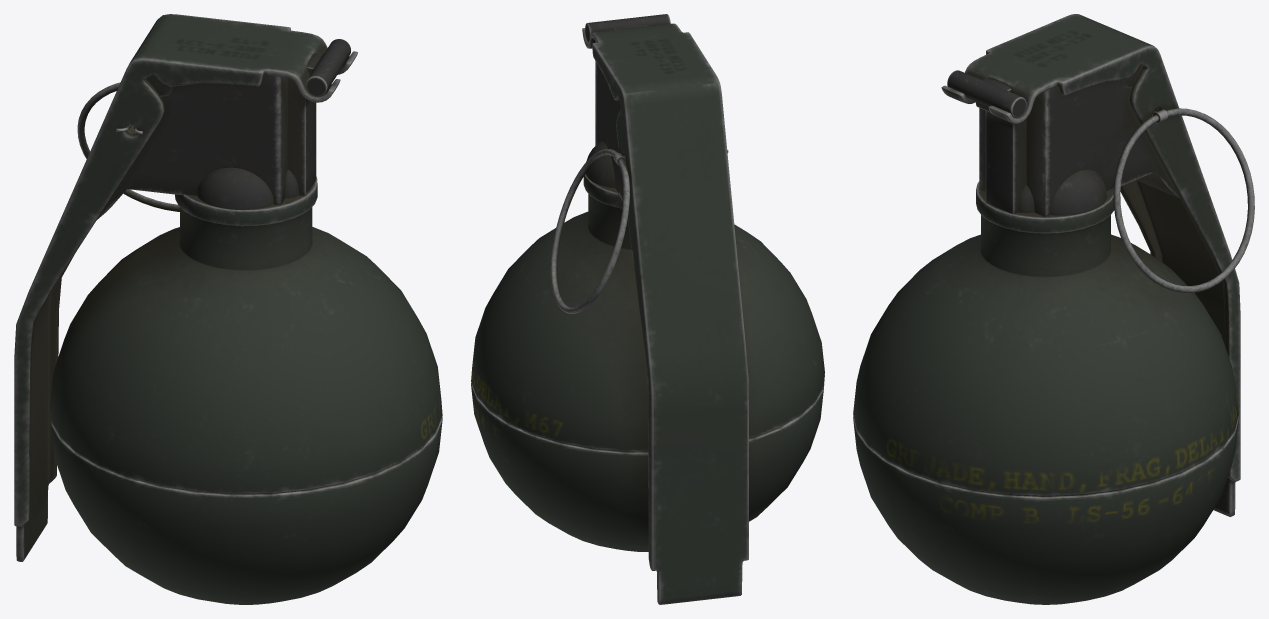
3 views of the same model, side by side, from view 1: azimuth 30°, elevation 25°; view 2: azimuth 150°, elevation 25°; view 3: azimuth 270°, elevation 25° (orthographic). The views are drawn at different scales.
Parts seen in each view (by area): view 1: Object_2.001; view 2: Object_2.001; view 3: Object_2.001.
Part boxes in pixels (x1,y1,x2,y2): Object_2.001: [14, 14, 442, 604]; Object_2.001: [471, 14, 824, 604]; Object_2.001: [853, 14, 1254, 604].
Bounding box in the file's own units: 3.81 × 5.73 × 3.95.
1 material, 1 textured.
